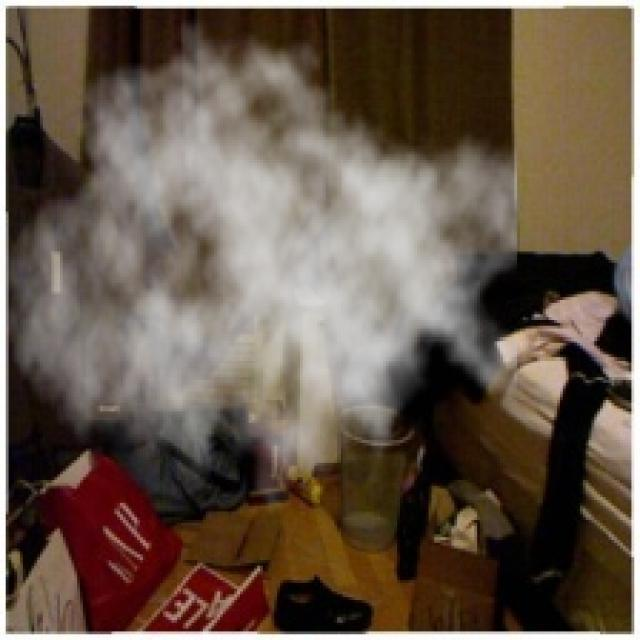Smoke: (2, 17, 518, 537)
